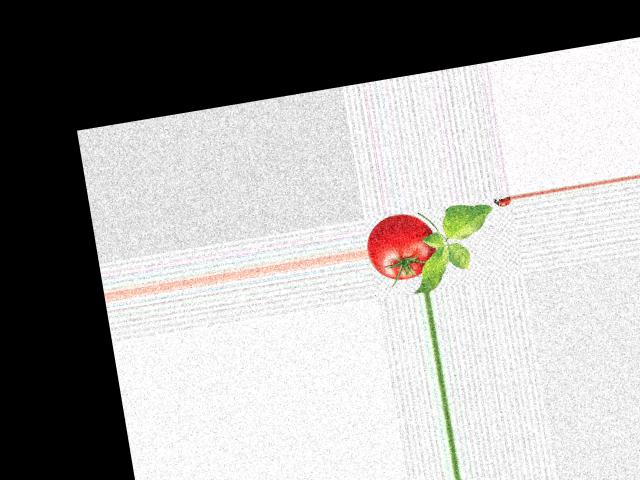tomato: (362, 209, 440, 284)
